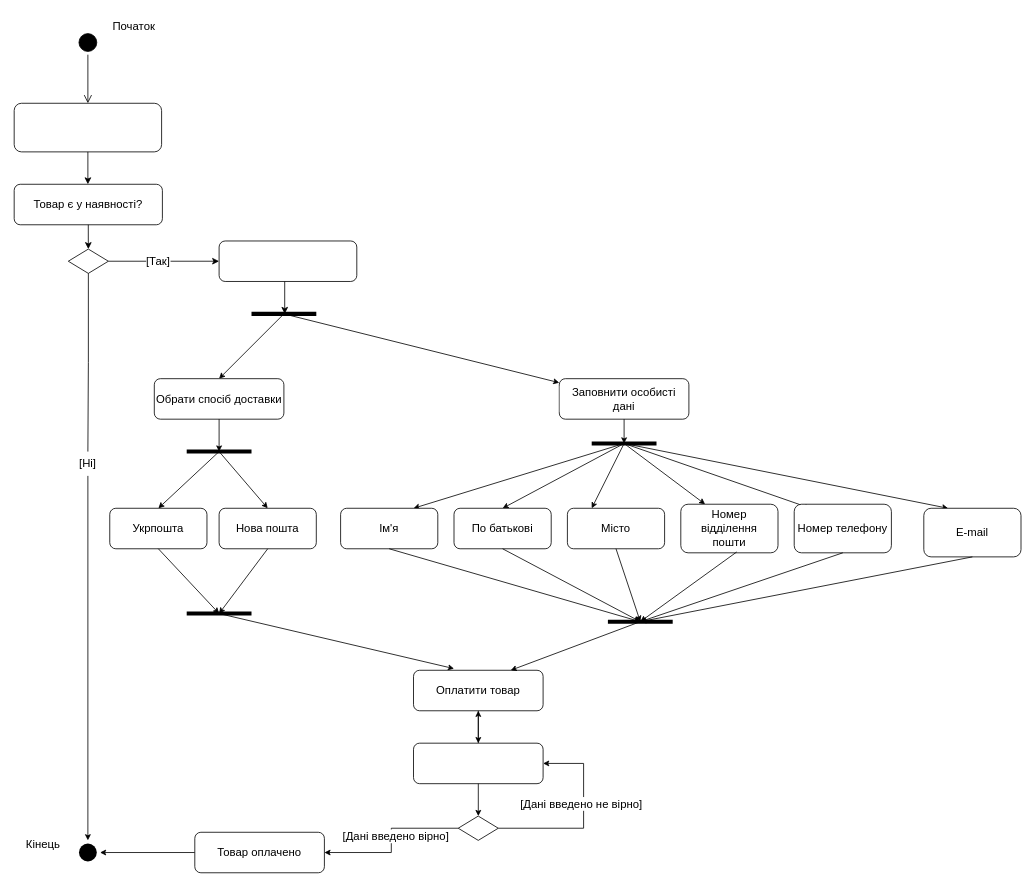
Some shapes in this 1035 by 887 pixel diagram are drawn without their labels. Here are the shapes that lost their labels. From the top down, the centre of each, then its label:
At (87,127): "Обрати товар".
At (287,260): "Оформити замовлення".
At (478,763): "Ввести дані про картку".
